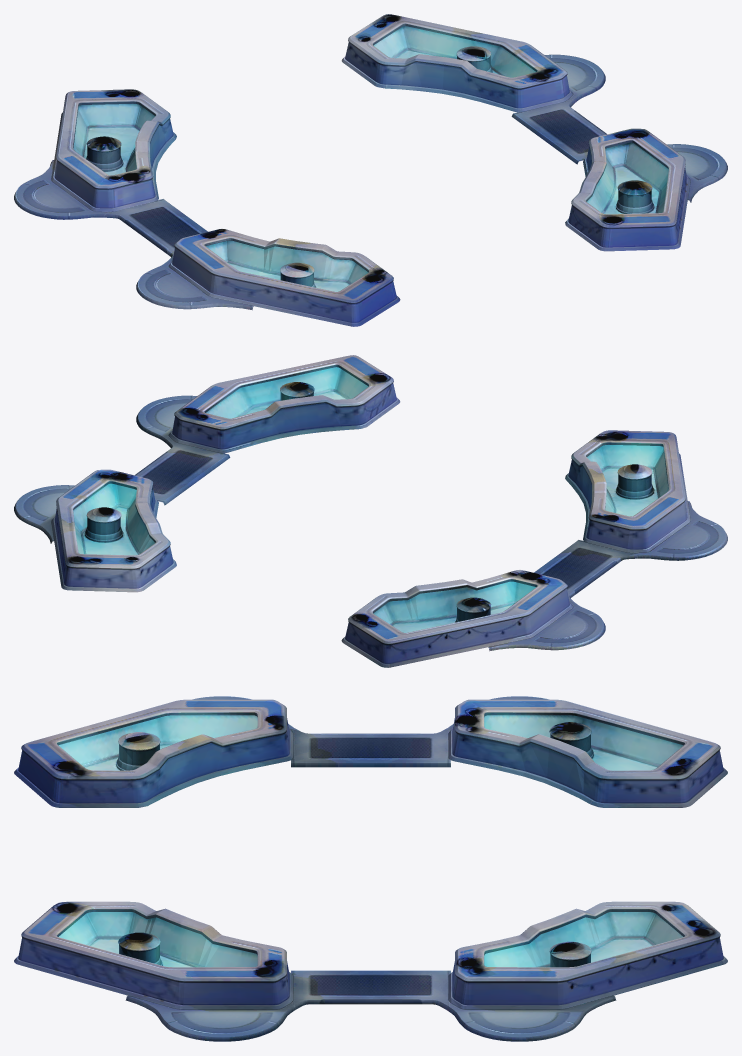
The model's file is pref_sm_4v4beachtech_bk_WSJ_waterblock_c02a_lv1.fbx.
The picture shows the model from 3 angles, top to bottom: view 1: azimuth 30°, elevation 25°; view 2: azimuth 150°, elevation 25°; view 3: azimuth 270°, elevation 25°; orthographic projection. The views are drawn at different scales.
Parts seen in each view (by area): view 1: sm_4v4beachtech_WSJ_bk_waterblock_c02a_lv1; view 2: sm_4v4beachtech_WSJ_bk_waterblock_c02a_lv1; view 3: sm_4v4beachtech_WSJ_bk_waterblock_c02a_lv1.
Part boxes in pixels (box(x1,y1,x2,y2)): sm_4v4beachtech_WSJ_bk_waterblock_c02a_lv1: box(14, 14, 727, 326); sm_4v4beachtech_WSJ_bk_waterblock_c02a_lv1: box(14, 355, 727, 667); sm_4v4beachtech_WSJ_bk_waterblock_c02a_lv1: box(14, 696, 727, 1041).
Size of the model in its own units: 39.66 by 2.07 by 34.89.
1 material, 1 textured.
